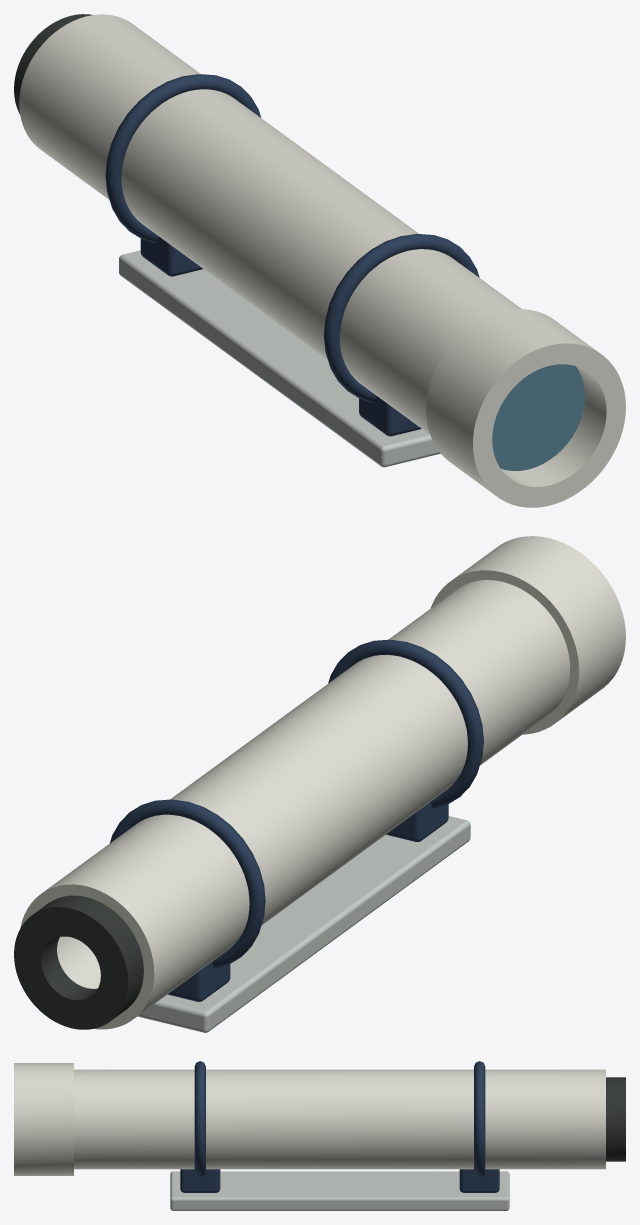
The model's file is planetarium-and-optical-observatory-refracting-telesco-43387a5a__31846.glb.
The picture shows the model from 3 angles, top to bottom: view 1: azimuth 30°, elevation 25°; view 2: azimuth 150°, elevation 25°; view 3: azimuth 270°, elevation 25°; orthographic projection. The views are drawn at different scales.
Visible parts, largest first — view 1: refracting-telescope-tube; view 2: refracting-telescope-tube; view 3: refracting-telescope-tube.
Part boxes in pixels (x1,y1,x2,y2): refracting-telescope-tube: (14, 14, 625, 507); refracting-telescope-tube: (14, 536, 625, 1032); refracting-telescope-tube: (14, 1061, 625, 1210).
Bounding box in the file's own units: 0.352 × 0.436 × 1.84.
